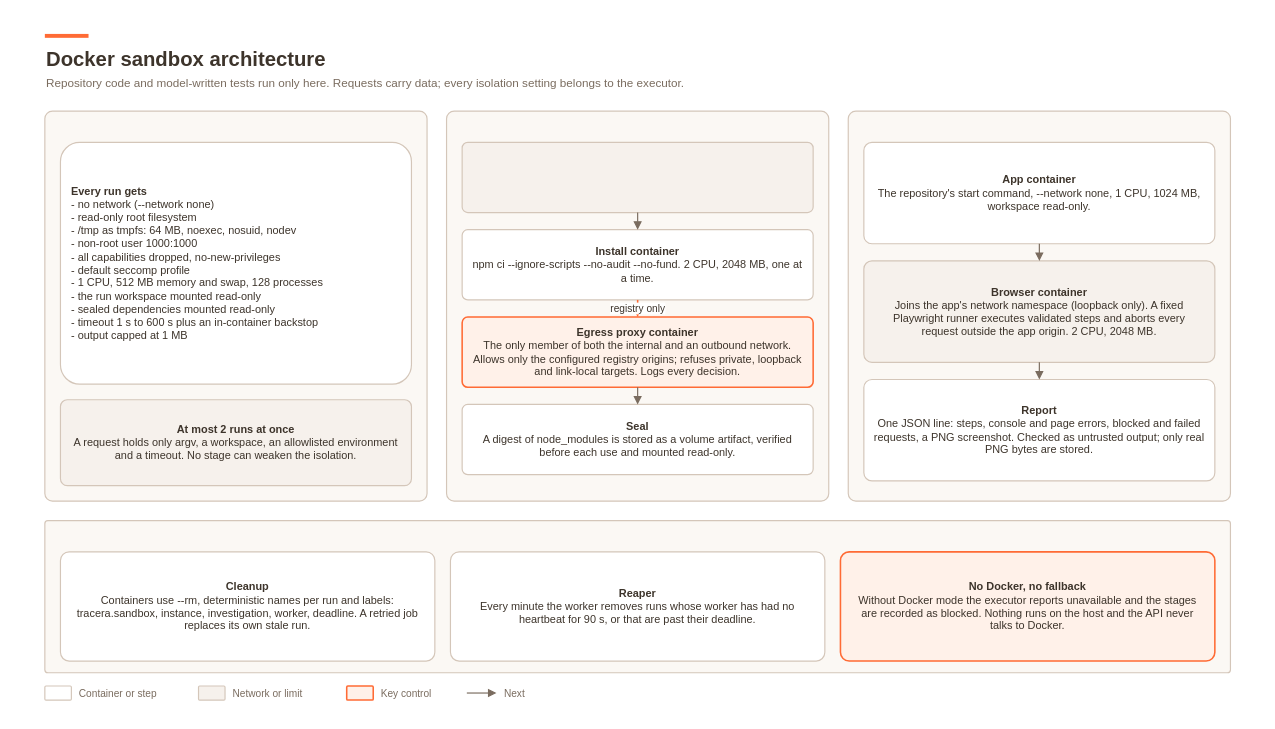
Some shapes in this 1275 by 729 pixel diagram are drawn without their labels. The shapes that lost their labels are listed below. From the top down, each one's box as (x1, y1, x2, y2) in pixels, then its label:
(461, 141, 813, 213): Internal network Docker --internal: no route and no DNS.
(44, 110, 427, 501): Test and reproduction runs
(446, 110, 829, 501): Dependency preparation
(847, 110, 1231, 501): Browser reproduction
(44, 520, 1231, 673): Cleanup and availability
